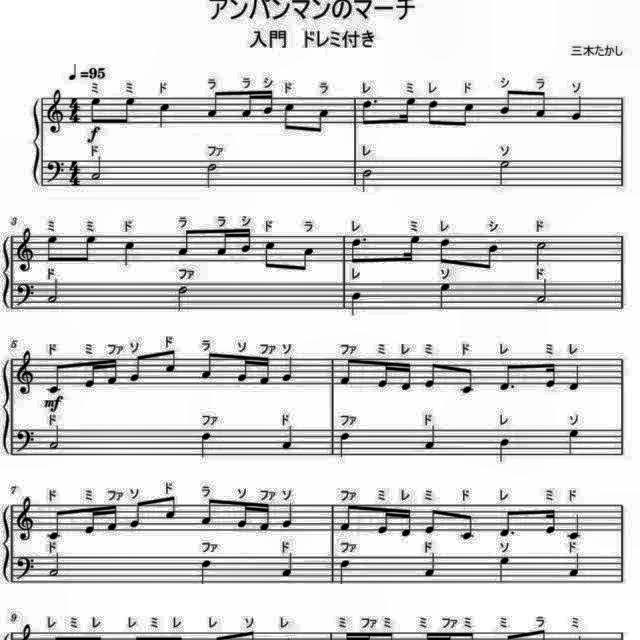Bass-clef: (12, 278, 36, 308), (12, 554, 36, 582), (12, 428, 36, 456), (42, 158, 66, 186)
Eighth-note: (46, 358, 70, 394), (77, 230, 99, 266), (46, 506, 66, 544), (481, 241, 503, 275), (177, 226, 199, 258), (497, 360, 519, 392), (495, 508, 517, 540), (358, 95, 379, 128), (280, 99, 300, 133), (262, 238, 282, 272), (117, 95, 137, 129), (294, 243, 316, 273), (422, 505, 442, 537), (312, 106, 332, 138), (198, 496, 218, 528), (460, 509, 480, 541), (534, 87, 554, 119), (198, 348, 218, 380), (348, 234, 368, 266), (204, 90, 224, 122), (496, 85, 516, 116), (339, 500, 358, 532), (457, 99, 477, 129), (129, 498, 147, 530), (129, 352, 147, 384), (424, 96, 442, 128), (461, 364, 479, 396), (437, 236, 455, 268), (43, 233, 61, 265), (87, 94, 105, 126), (340, 355, 358, 387), (423, 361, 441, 392), (160, 493, 178, 523), (160, 348, 178, 377)
Half-note: (172, 282, 192, 314), (202, 160, 222, 190), (495, 158, 513, 188), (44, 276, 62, 304), (531, 238, 549, 266), (358, 167, 374, 196), (534, 276, 550, 304), (46, 550, 62, 578), (90, 156, 106, 184), (48, 425, 64, 453), (338, 429, 354, 457)
Quarter-note: (564, 513, 584, 543), (420, 550, 440, 578), (568, 93, 586, 123), (121, 238, 139, 268), (437, 281, 455, 311), (279, 501, 297, 531), (564, 426, 582, 456), (157, 100, 175, 130), (198, 429, 216, 459), (279, 550, 297, 580), (279, 356, 297, 384), (565, 551, 583, 579), (422, 424, 440, 452), (198, 558, 216, 586), (279, 425, 297, 453), (336, 558, 354, 586), (566, 362, 582, 393), (496, 555, 512, 585), (496, 437, 512, 465), (348, 290, 364, 318)
Sixteenth-note: (402, 232, 424, 266), (398, 92, 420, 124), (212, 228, 232, 260), (233, 352, 253, 384), (80, 505, 98, 539), (375, 506, 393, 538), (81, 360, 99, 392), (105, 502, 122, 534), (398, 360, 414, 394), (398, 506, 414, 540), (238, 90, 256, 120), (234, 500, 252, 530), (256, 502, 272, 534), (376, 359, 392, 391), (106, 358, 122, 390), (236, 224, 252, 256), (258, 354, 274, 386), (542, 506, 558, 536), (542, 361, 558, 391), (262, 90, 278, 118)
Treble-clef: (14, 493, 38, 543), (14, 348, 38, 397), (14, 226, 38, 274), (43, 87, 65, 137)
